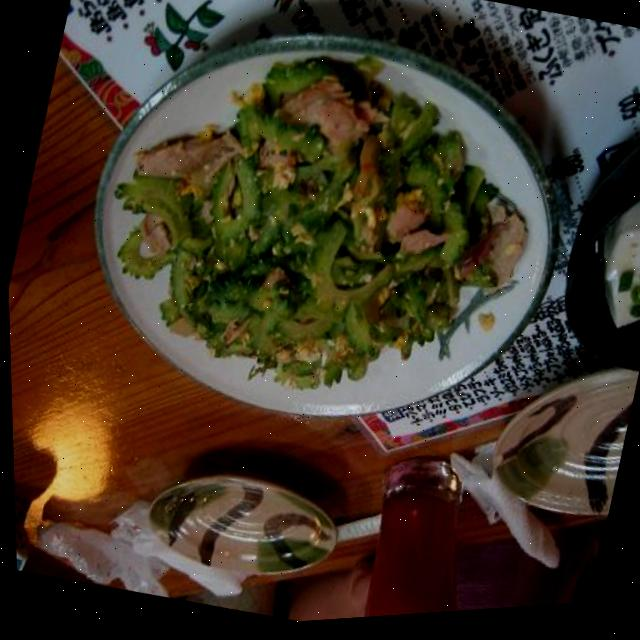熟制海鲜: (51, 0, 598, 472)
